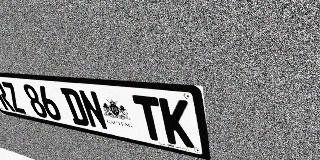6: (34, 85, 64, 122)
8: (21, 84, 49, 119)
D: (60, 87, 91, 127)
K: (158, 97, 194, 148)
N: (77, 89, 109, 131)
R: (0, 80, 16, 112)
T: (132, 95, 167, 143)
Z: (0, 81, 27, 114)
